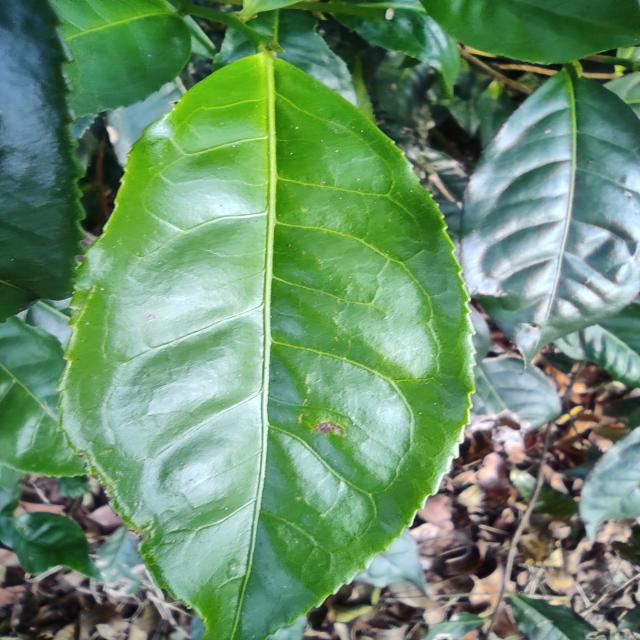Category D(7+ days, Not for Tea): (38, 45, 499, 640)
